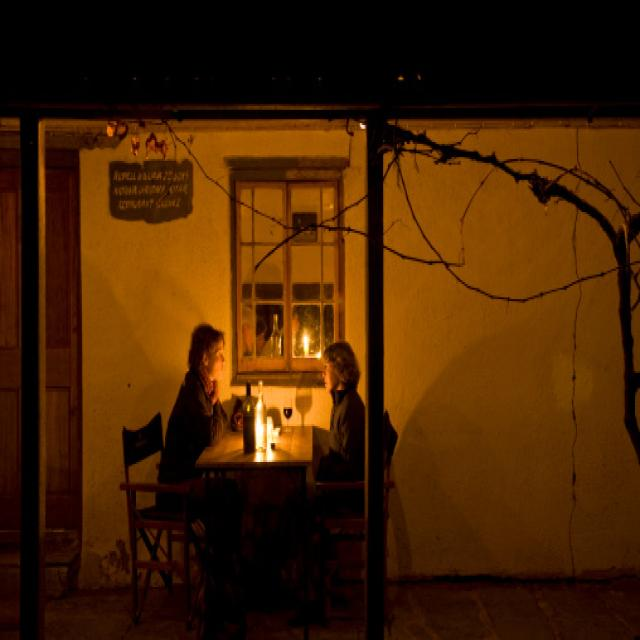Bottle: (257, 348, 285, 474), (236, 371, 265, 480)
Cup: (276, 391, 299, 439)
People: (171, 312, 225, 489), (317, 336, 370, 488)
Table: (166, 422, 351, 640)
chair: (314, 422, 417, 640), (95, 406, 194, 613)
